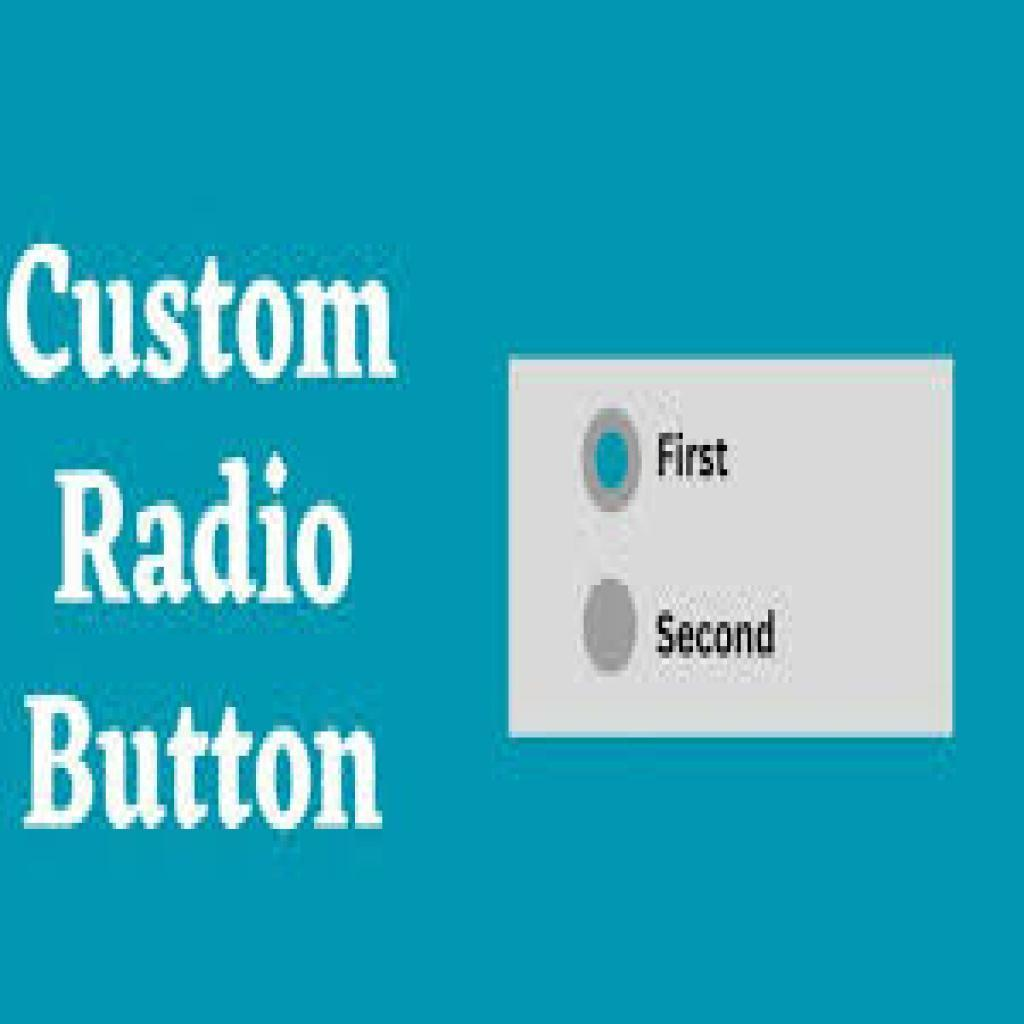radio: (581, 409, 643, 516), (583, 577, 640, 677)
